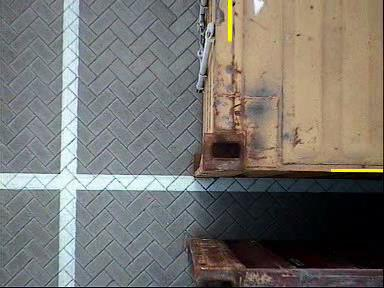groundmarker_2: (166, 88, 247, 142)
